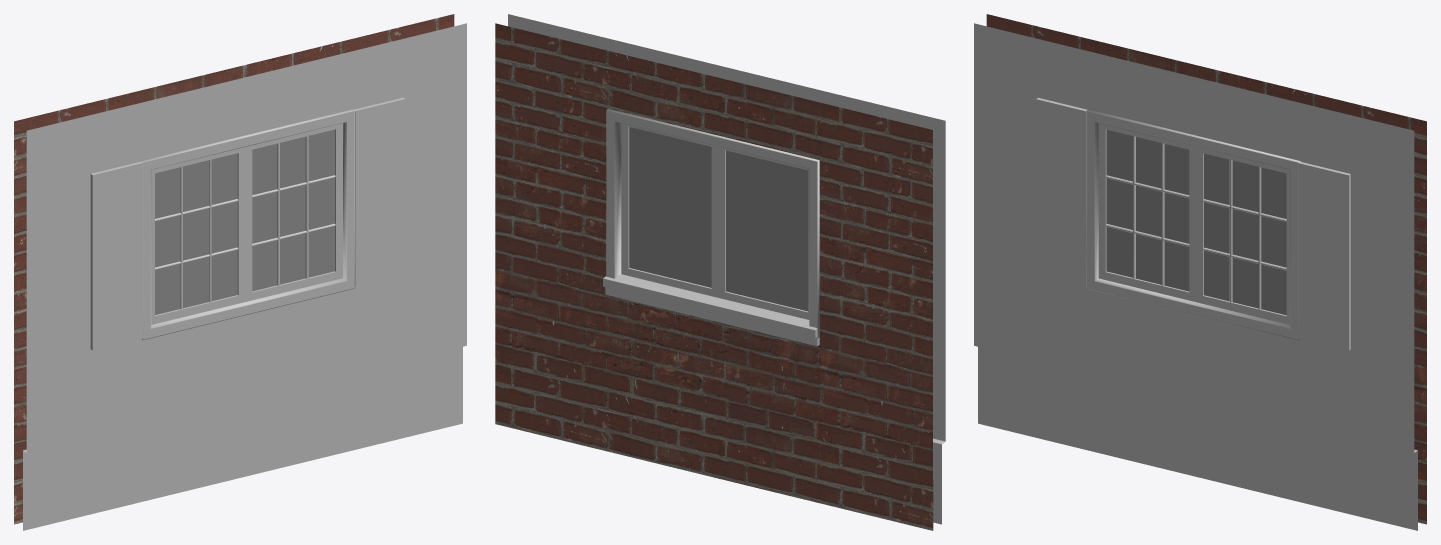
Rendered from In_WallDown_Window_Double_4x.FBX.
3 views of the same model, side by side, from view 1: azimuth 30°, elevation 25°; view 2: azimuth 150°, elevation 25°; view 3: azimuth 330°, elevation 25° (orthographic).
Visible parts, largest first — view 1: WallDown_Window_Double_4x; view 2: WallDown_Window_Double_4x; view 3: WallDown_Window_Double_4x.
Boxes of the visible parts, x1,y1,x2,y2 form: WallDown_Window_Double_4x: [14, 14, 466, 530]; WallDown_Window_Double_4x: [495, 14, 945, 530]; WallDown_Window_Double_4x: [974, 14, 1426, 530].
Bounding box in the file's own units: 400 × 350 × 29.86.
